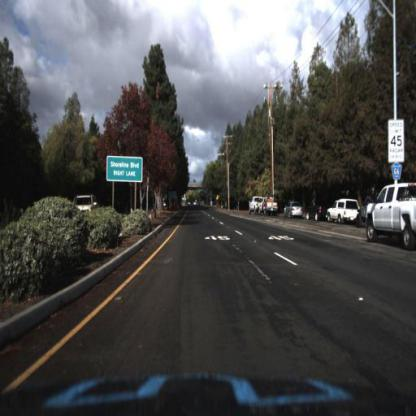car: (367, 183, 416, 255), (327, 196, 360, 224), (74, 191, 99, 226), (327, 199, 361, 224), (303, 202, 328, 223), (259, 196, 278, 217), (247, 198, 265, 217), (289, 203, 304, 223), (286, 202, 303, 219)
